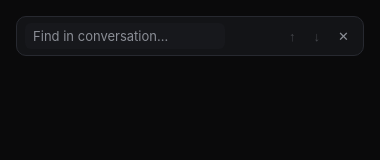
it: FindBar › reports the match count as the query changes
Type "alpha" into the field labelled "Find in conversation" at (125, 36), box [25,23,225,49]
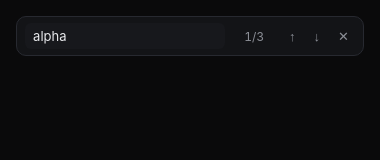
Check: the text "1/3" is shown, box [244,28,264,44]
